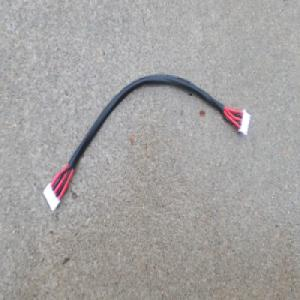Wire: (41, 72, 251, 213)
